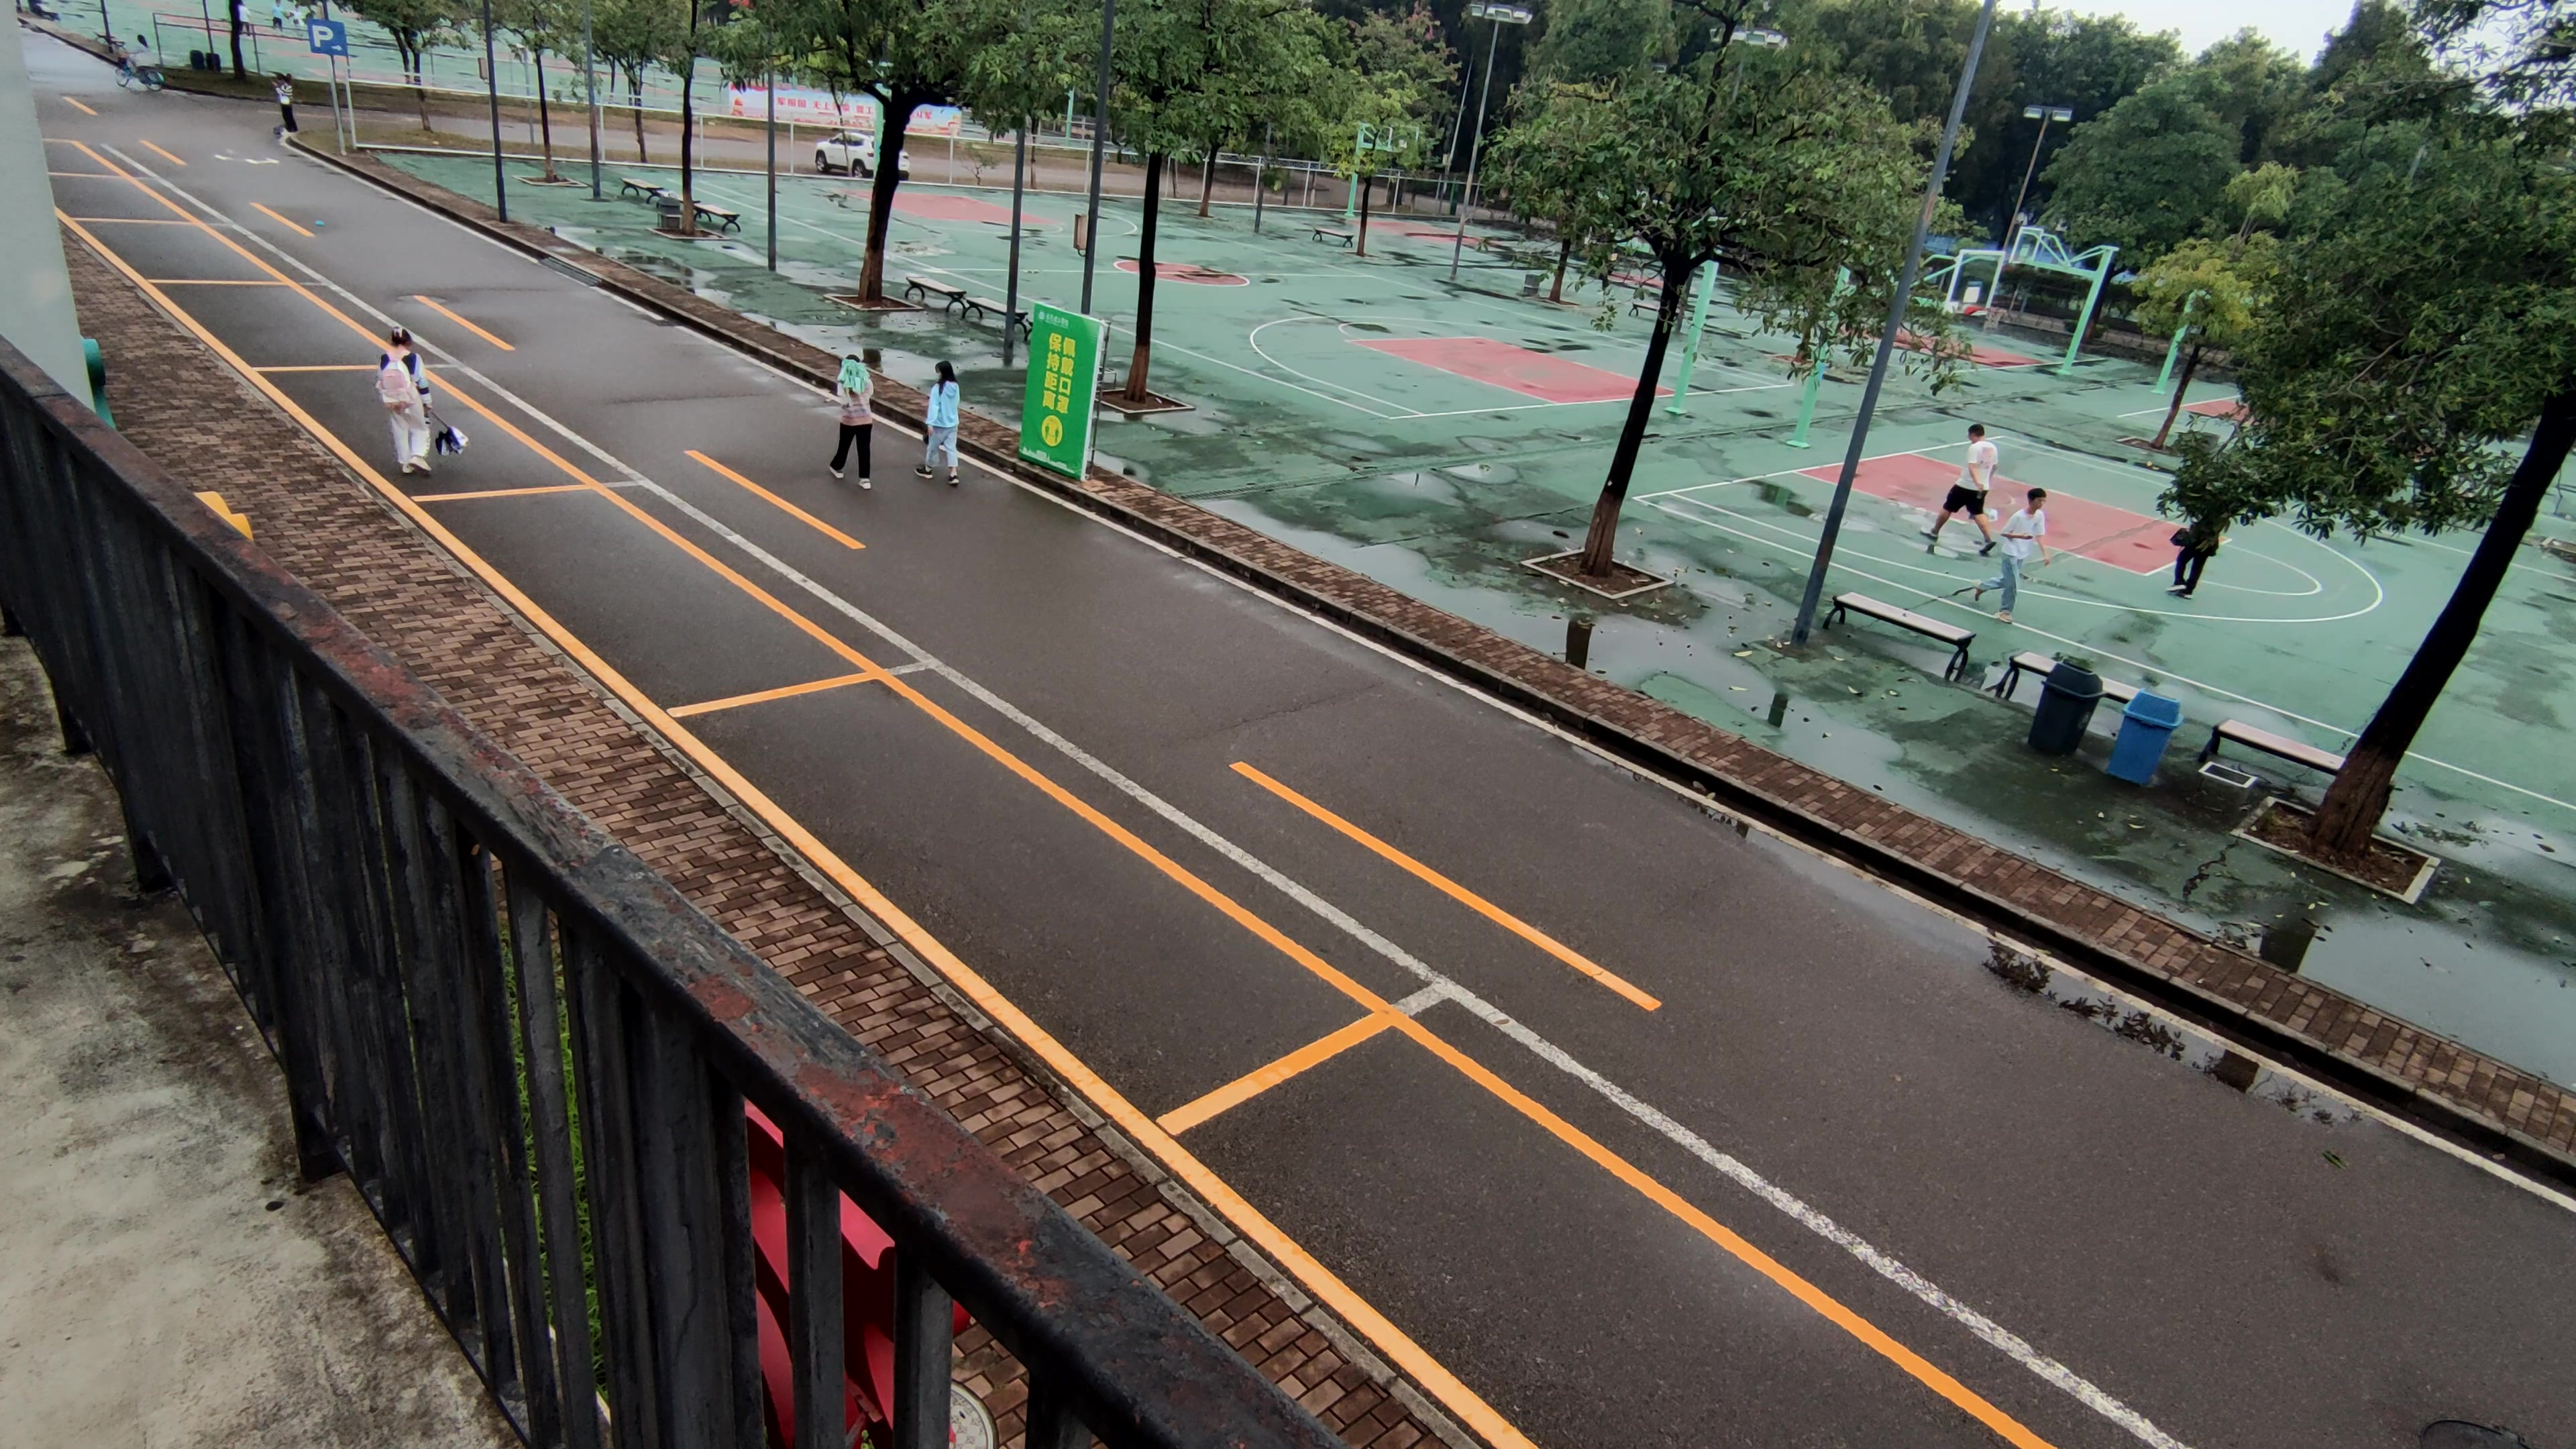space-empty: (648, 669, 1392, 1150), (395, 479, 885, 718), (237, 364, 600, 506), (138, 271, 419, 377), (64, 211, 303, 292)
